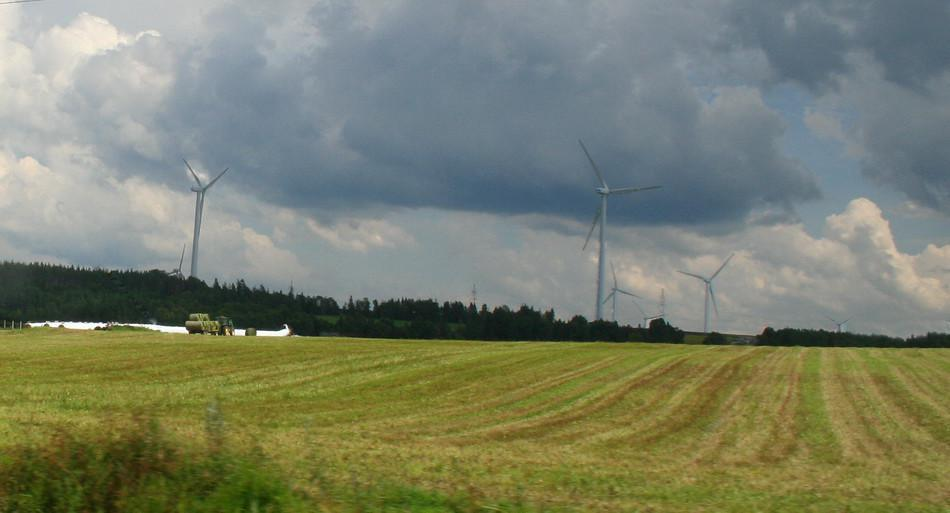power_tower: (657, 288, 666, 317), (469, 281, 479, 304), (288, 280, 294, 295)
